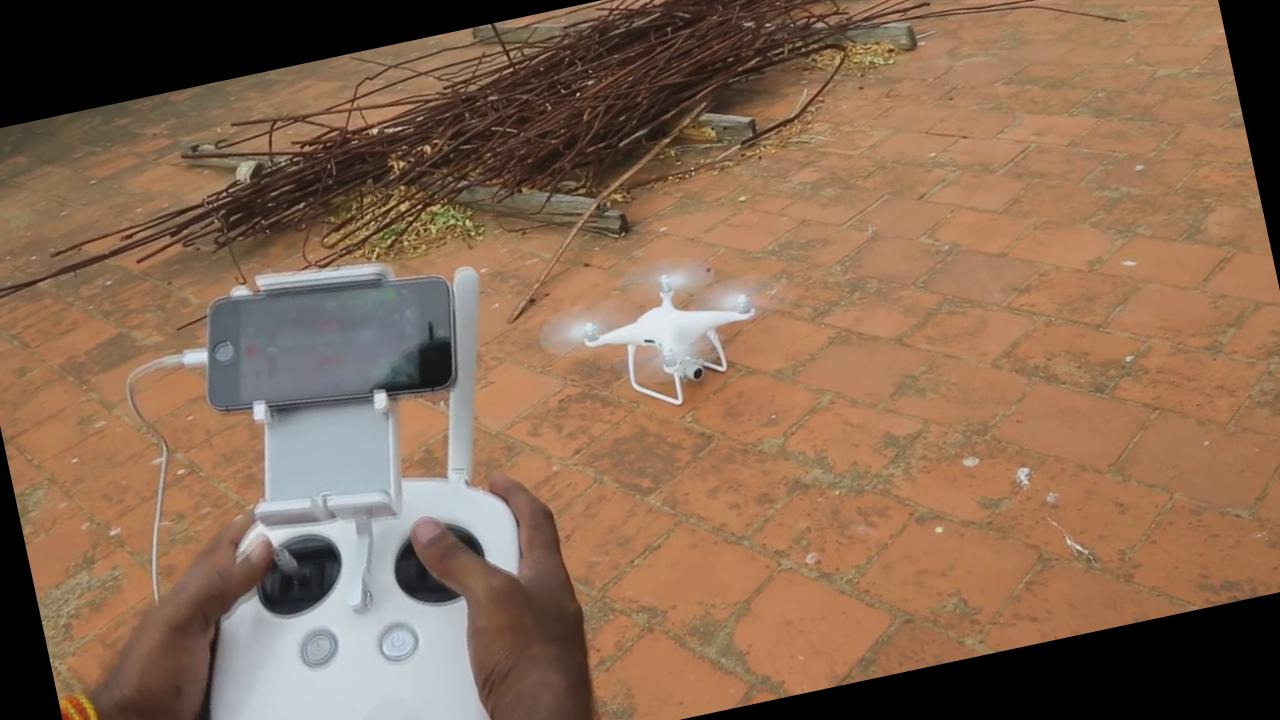drone: (524, 233, 791, 430)
